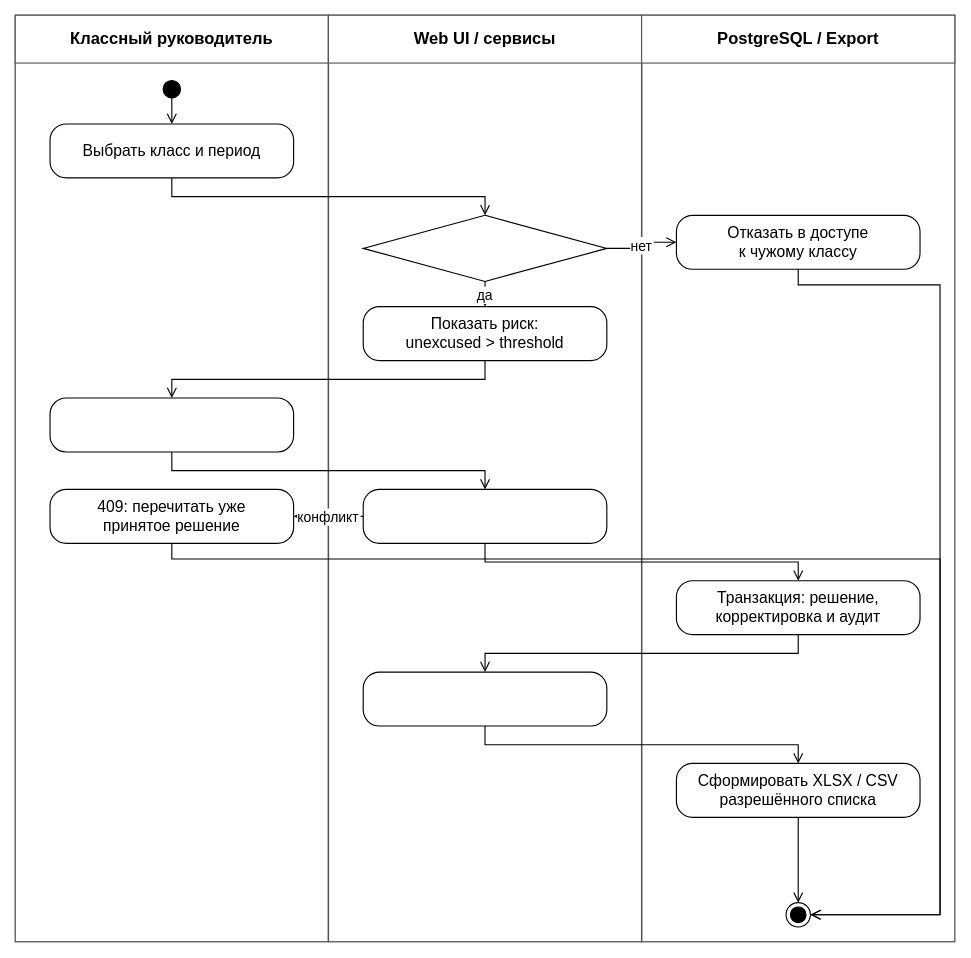
Image size: 971x958. Some labels were removed from this diagram. The shapes that lost their labels are listed below. From the top down, each one's box as (x1, y1, x2, y2) in pixels, then its label:
(362, 214, 607, 282): Класс закреплён за пользователем?
(49, 397, 294, 452): Открыть карточку; выбрать запрос / статус
(362, 488, 607, 543): Проверить основание, права и expected_version
(362, 671, 607, 726): Пересчитать посещаемость и группу риска
